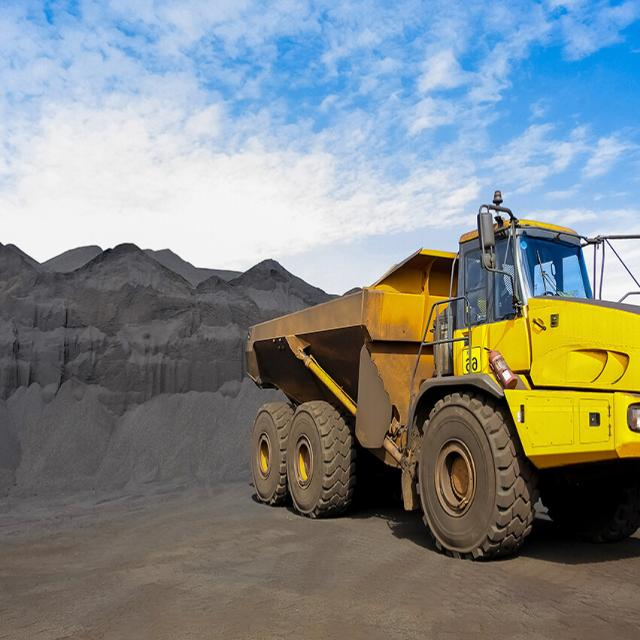dump_truck: (231, 192, 639, 582)
